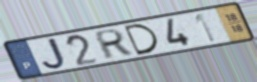1: (194, 13, 218, 42)
2: (65, 33, 101, 67)
4: (165, 16, 192, 48)
D: (121, 22, 161, 57)
J: (41, 36, 68, 71)
R: (94, 27, 134, 61)
